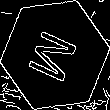M_SE: (25, 24, 85, 86)
